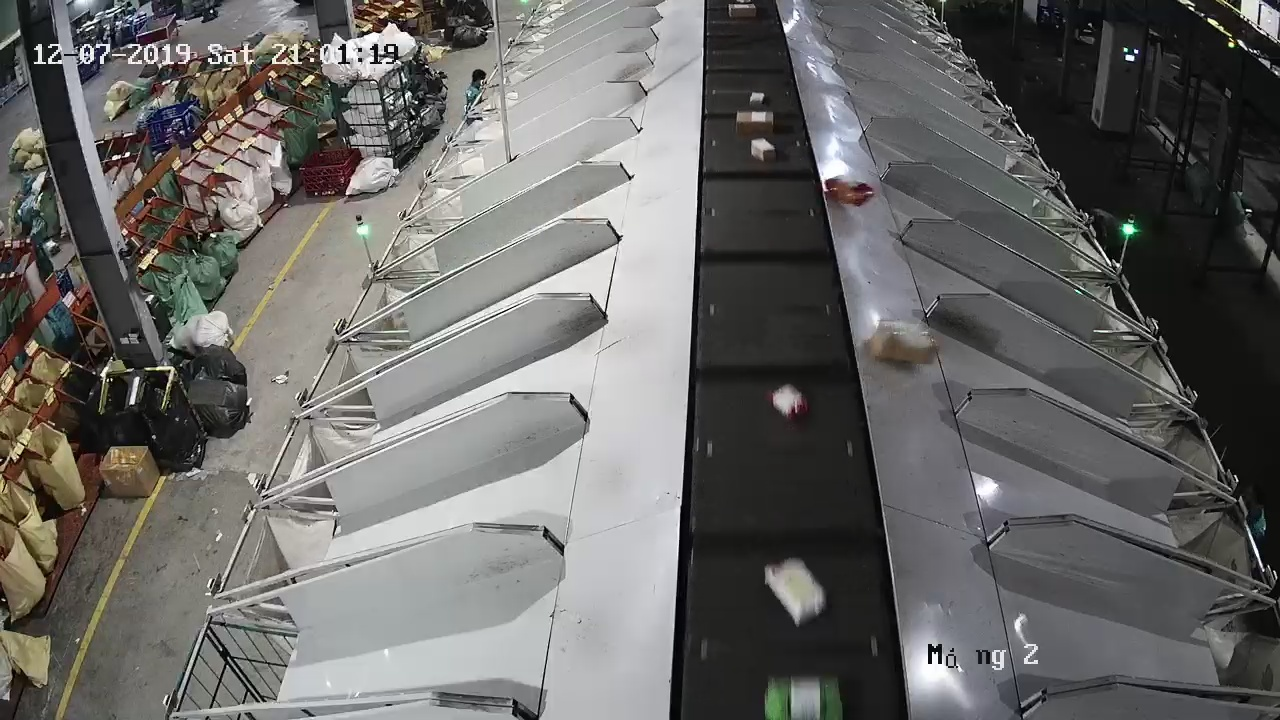parcel: (870, 319, 939, 366), (824, 174, 876, 207)
